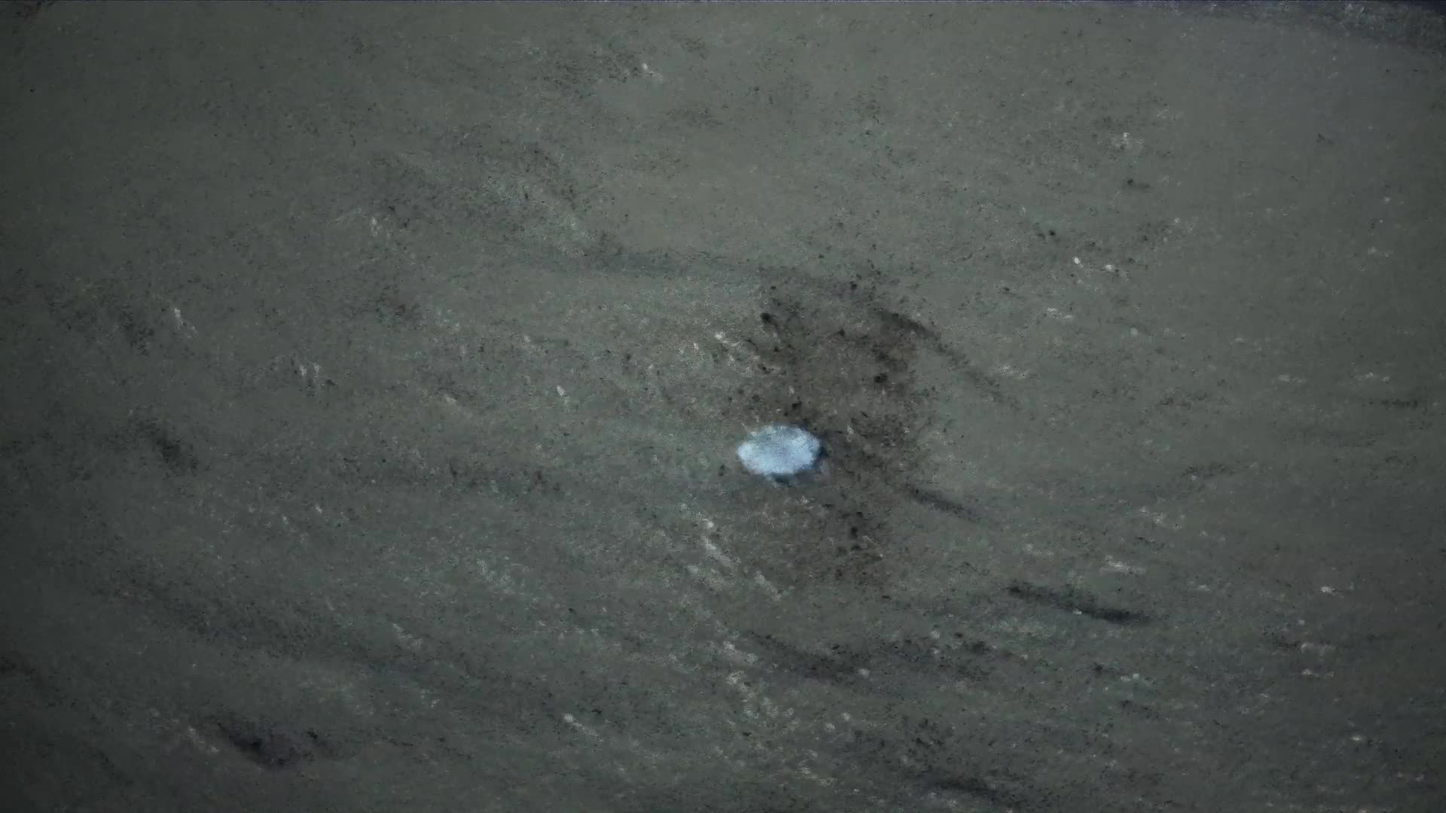Target: (731, 421, 824, 478)
